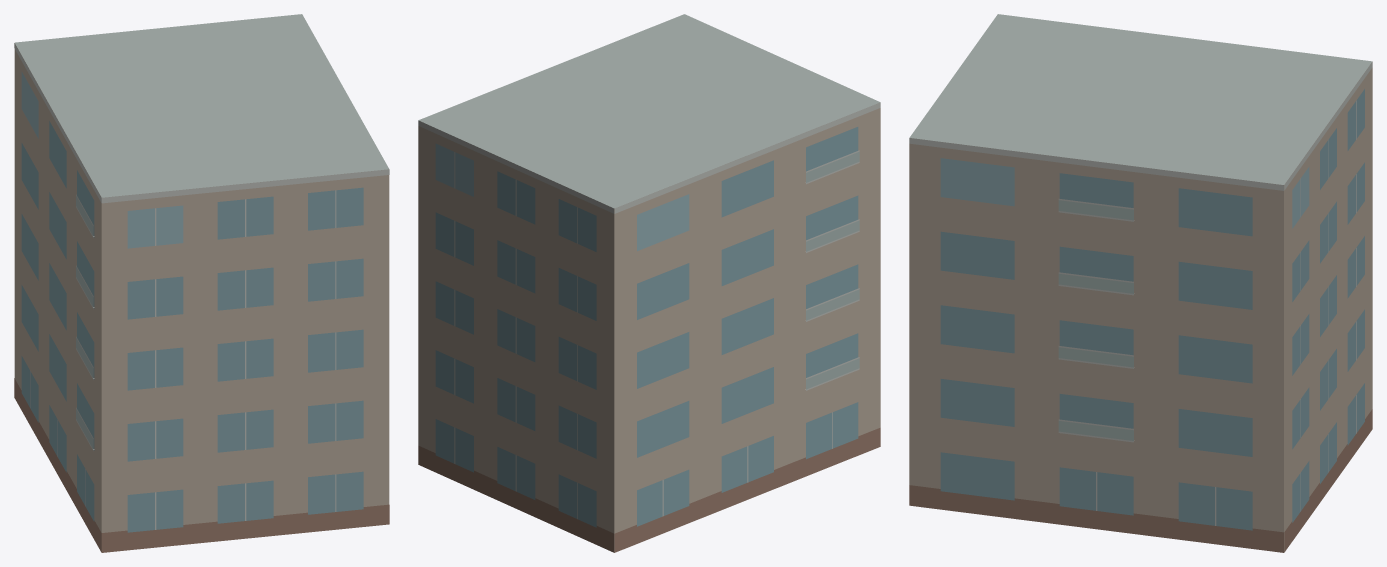
The model's file is survey-upis-32517845.glb.
The picture shows the model from 3 angles, left to right: view 1: azimuth 30°, elevation 25°; view 2: azimuth 150°, elevation 25°; view 3: azimuth 270°, elevation 25°; orthographic projection. The views are drawn at different scales.
Parts seen in each view (by area): view 1: survey-upis-32517845.tmp; view 2: survey-upis-32517845.tmp; view 3: survey-upis-32517845.tmp.
Part boxes in pixels (x1,y1,x2,y2): survey-upis-32517845.tmp: [14, 14, 389, 552]; survey-upis-32517845.tmp: [418, 14, 880, 552]; survey-upis-32517845.tmp: [909, 14, 1372, 552].
Bounding box in the file's own units: 15.38 × 15.4 × 17.59.
